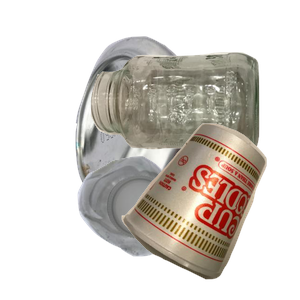glass: (88, 50, 300, 194)
metal: (73, 34, 285, 214)
plastic: (75, 154, 248, 300)
trash: (119, 121, 300, 300)
